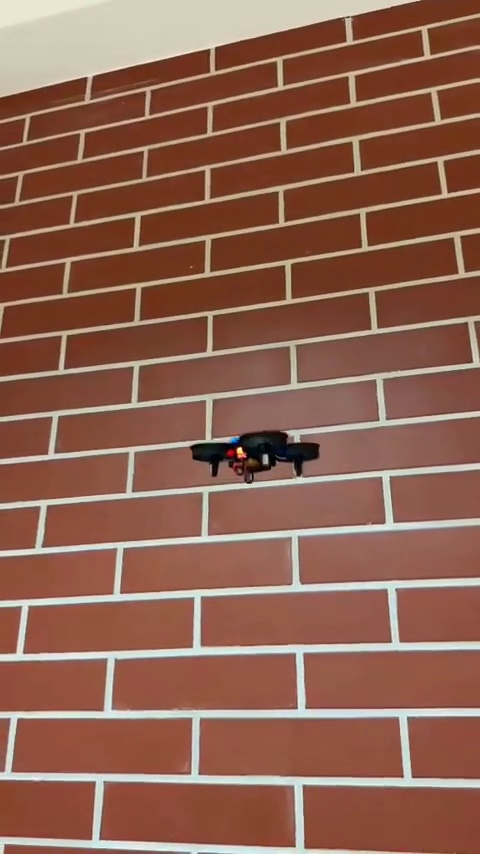drone: (194, 431, 325, 493)
